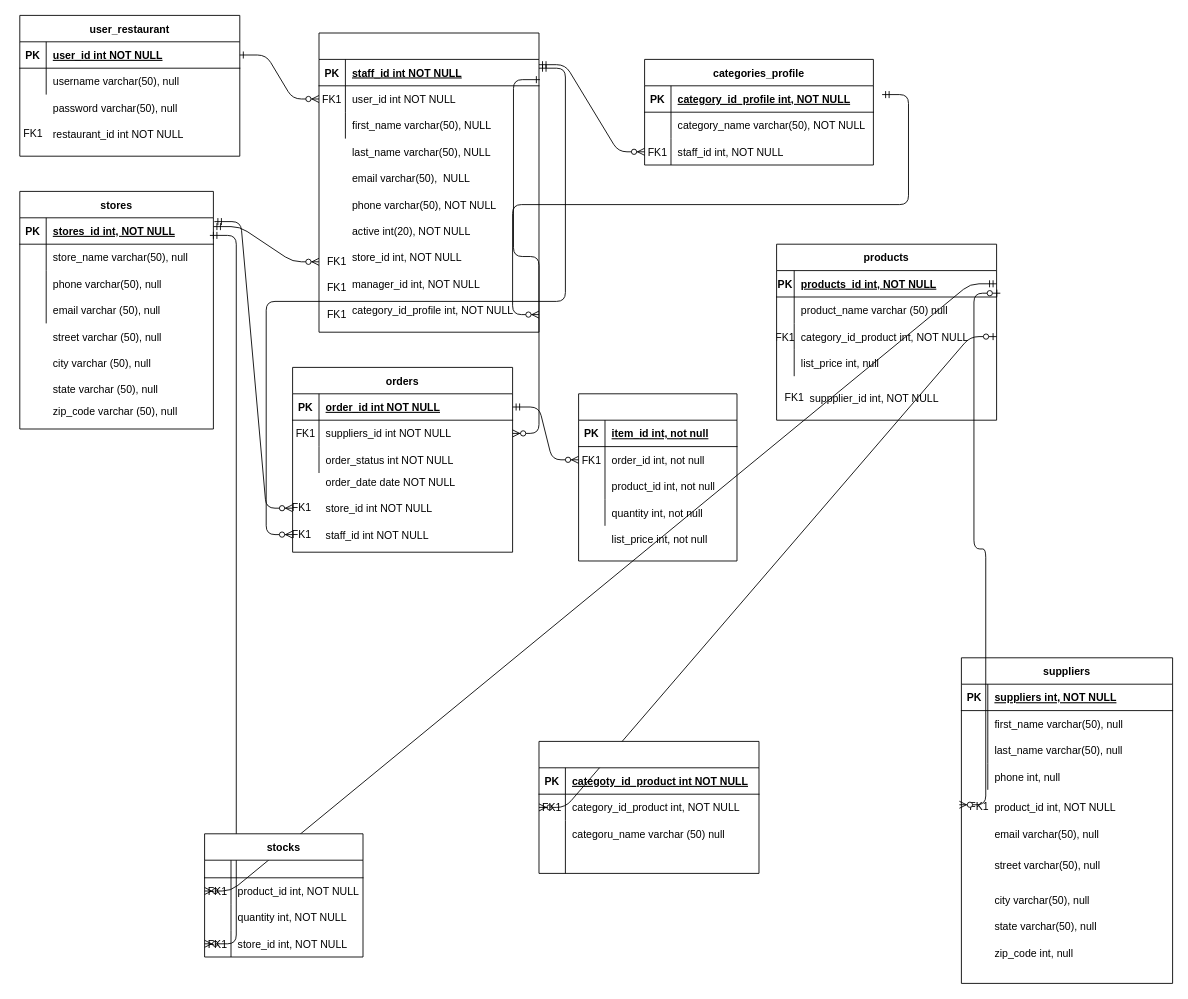
Some shapes in this 1188 by 999 pixel diagram are drawn without their labels. The shapes that lost their labels are listed below. From the top down, each one's box as (x1, y1, x2, y2) in pixels, then its label:
(318, 32, 539, 332): staffs
(578, 393, 737, 561): order_items
(538, 741, 759, 873): categories_product
